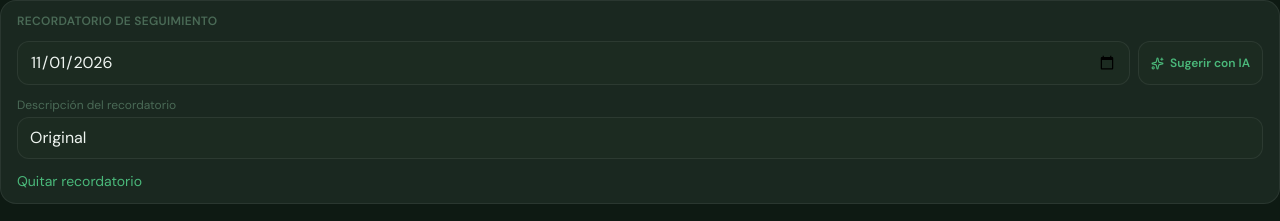
Test: B029/F036 — recordatorio compartido y respuestas tardías › no restaura un recordatorio quitado mientras esperaba la IA
Click the button "Sugerir con IA". click: (1200, 63)
box: [1138,41,1263,85]
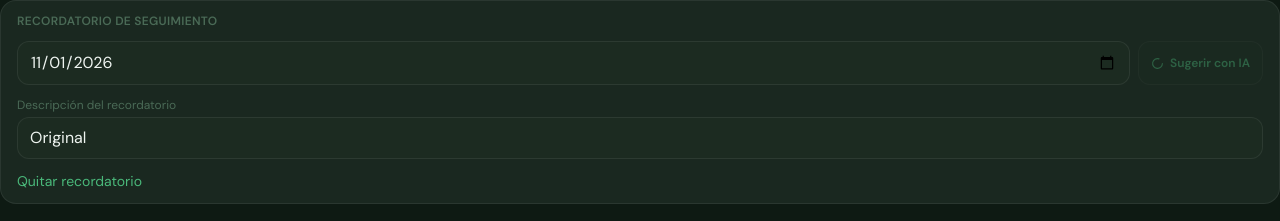
Click the button "Quitar recordatorio". click: (80, 181)
box: [17,171,142,191]
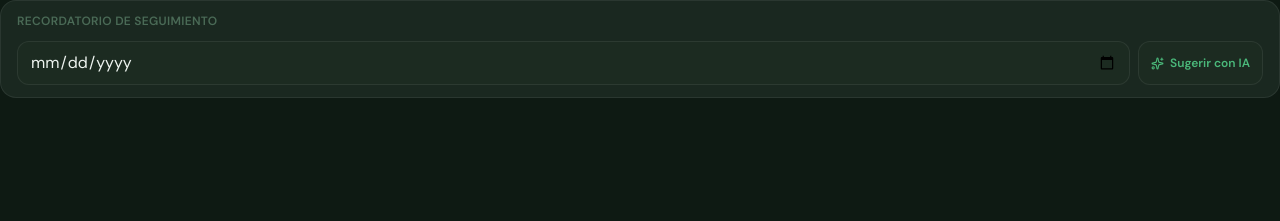
Check: the date field is empty, box [17,41,1130,85]
Check: the text "Quitar recordatorio" is gone
